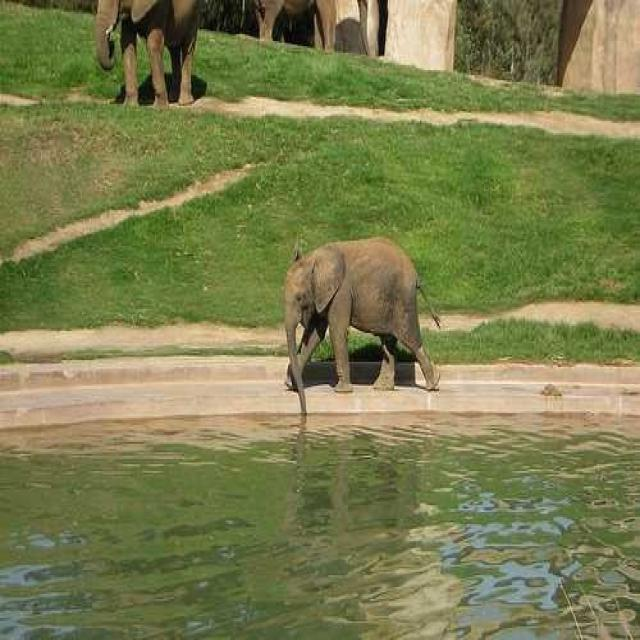Elephant: (283, 234, 441, 415), (94, 0, 200, 109)
